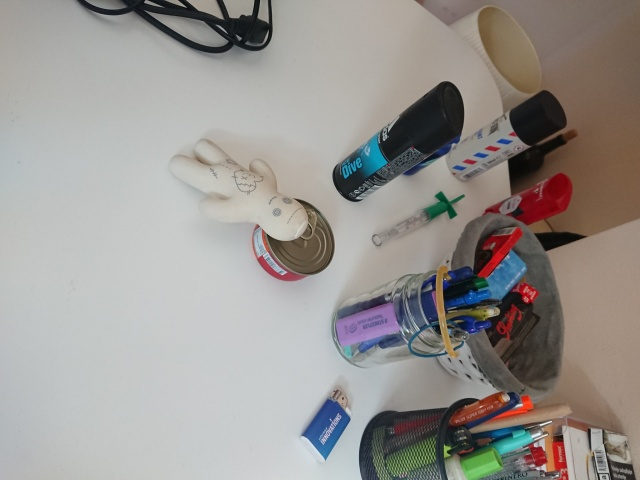Gavrilovic Pork Liver Pate 100g: (249, 196, 336, 283)
